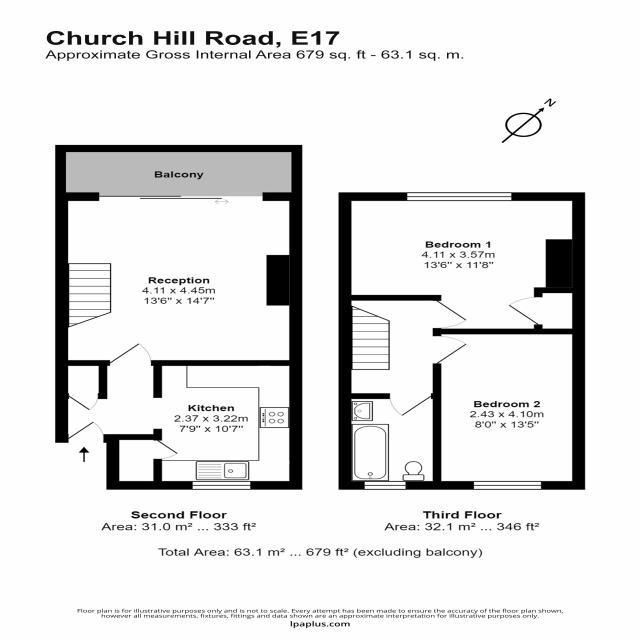DOOR: (432, 294, 472, 332), (386, 393, 441, 418), (105, 341, 156, 366), (505, 294, 543, 324), (432, 334, 469, 364), (61, 420, 108, 443), (152, 437, 181, 462)
ROOM: (55, 338, 303, 490), (339, 192, 586, 335), (433, 328, 586, 490)
SLIDING DOOR: (96, 192, 265, 201)
WINDOW: (404, 189, 515, 203), (472, 479, 544, 491), (190, 480, 254, 491), (360, 479, 409, 491)
